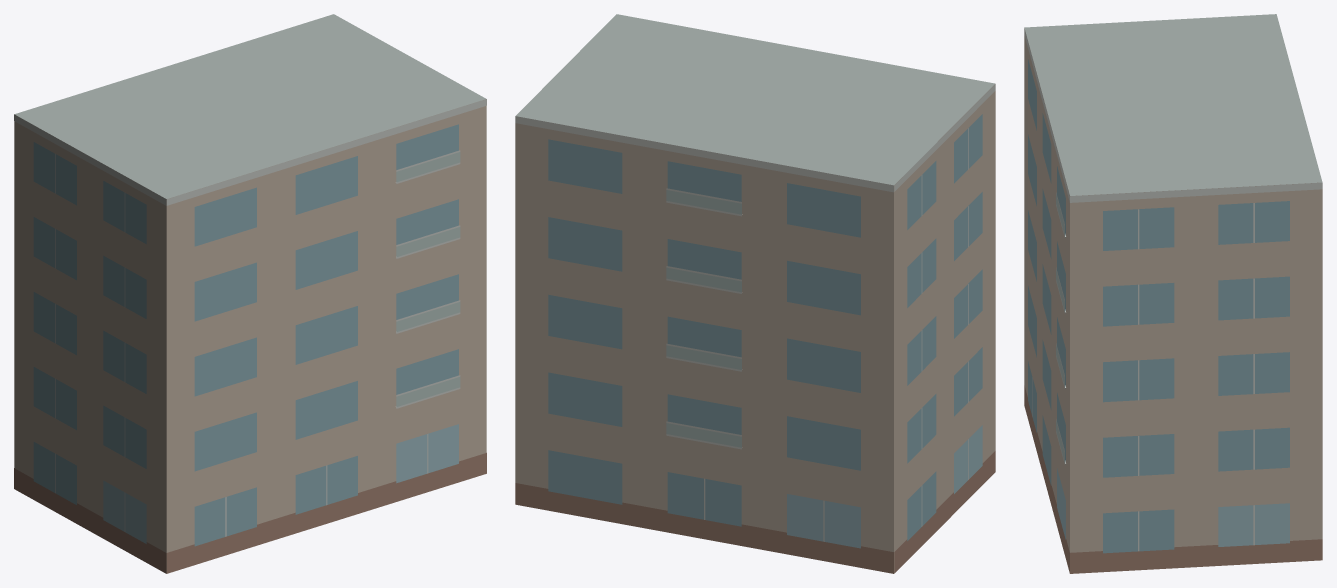
Rendered from survey-upis-32709199.glb.
The picture shows the model from 3 angles, left to right: view 1: azimuth 30°, elevation 25°; view 2: azimuth 150°, elevation 25°; view 3: azimuth 270°, elevation 25°; orthographic projection. The views are drawn at different scales.
Visible parts, largest first — view 1: survey-upis-32709199.tmp; view 2: survey-upis-32709199.tmp; view 3: survey-upis-32709199.tmp.
Boxes of the visible parts, x1=… form: survey-upis-32709199.tmp: x1=14, y1=14, x2=486, y2=573; survey-upis-32709199.tmp: x1=515, y1=14, x2=995, y2=573; survey-upis-32709199.tmp: x1=1024, y1=14, x2=1322, y2=573.
Bounding box in the file's own units: 13.91 × 13.45 × 9.63.
